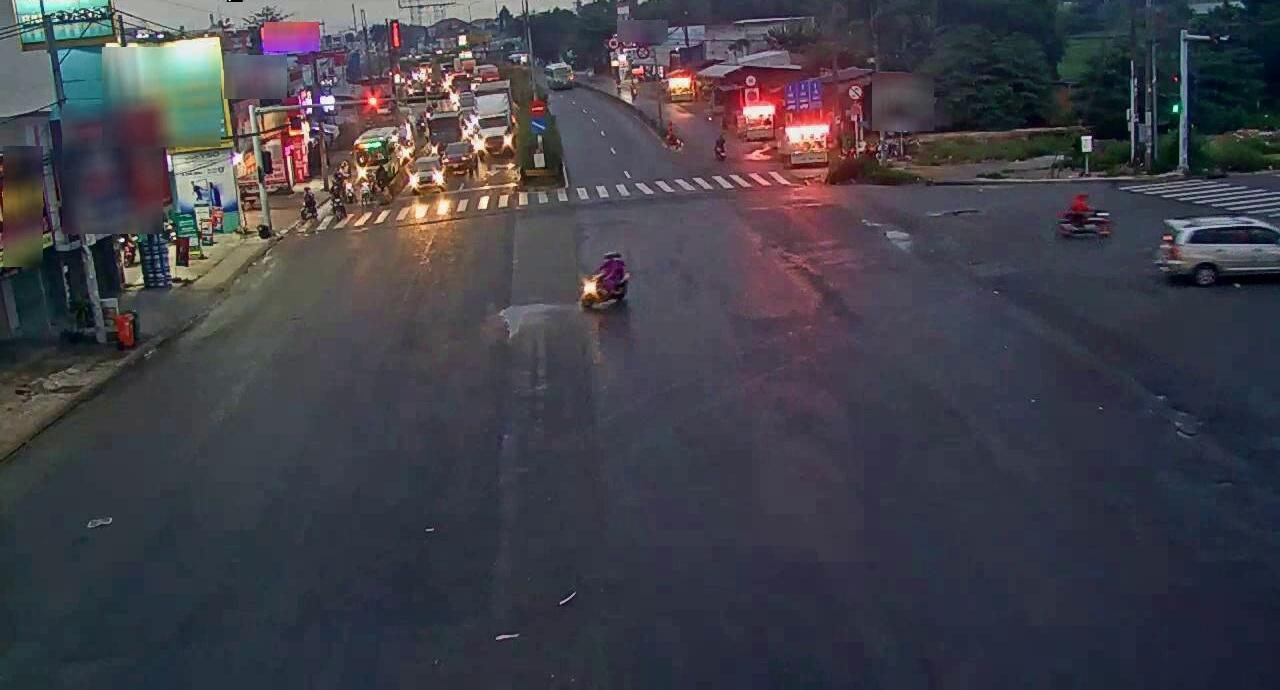xe may: (578, 249, 631, 312)
